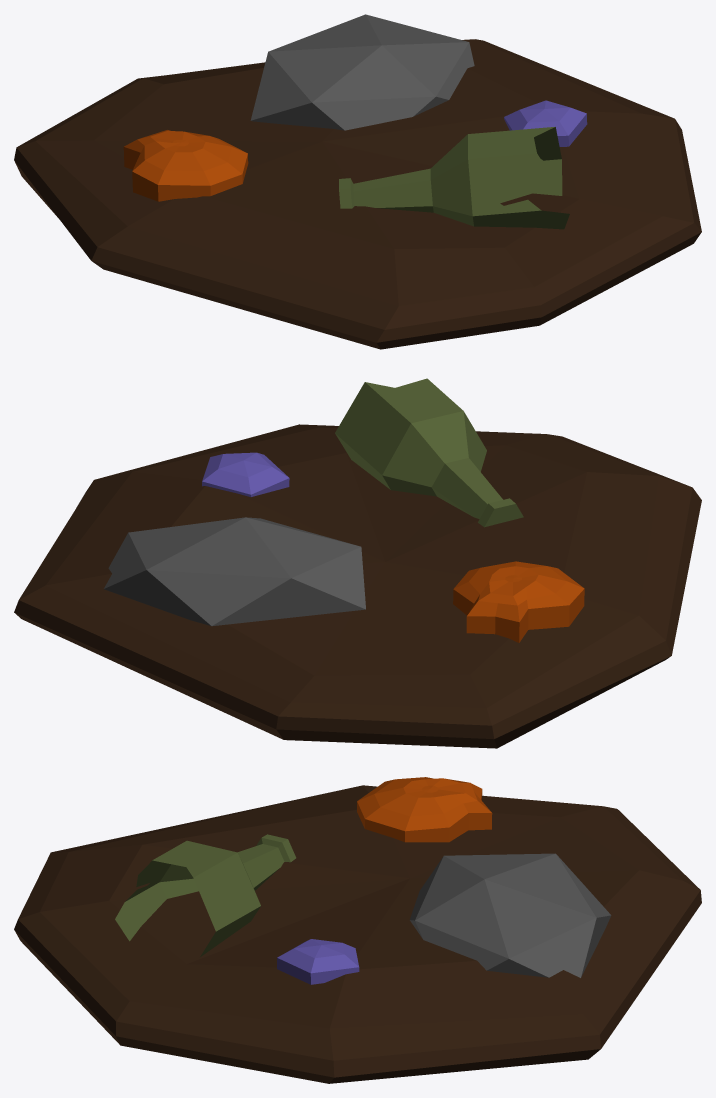
Rendered from SSJ_dirtyFloor1-A.fbx.
The picture shows the model from 3 angles, top to bottom: view 1: azimuth 30°, elevation 25°; view 2: azimuth 150°, elevation 25°; view 3: azimuth 270°, elevation 25°; orthographic projection. The views are drawn at different scales.
Parts seen in each view (by area): view 1: Rock2; view 2: Rock2; view 3: Rock2.
Part boxes in pixels (x1,y1,x2,y2): Rock2: [14, 14, 701, 349]; Rock2: [14, 378, 701, 748]; Rock2: [14, 777, 701, 1083].
Bounding box in the file's own units: 412 × 82.11 × 421.
